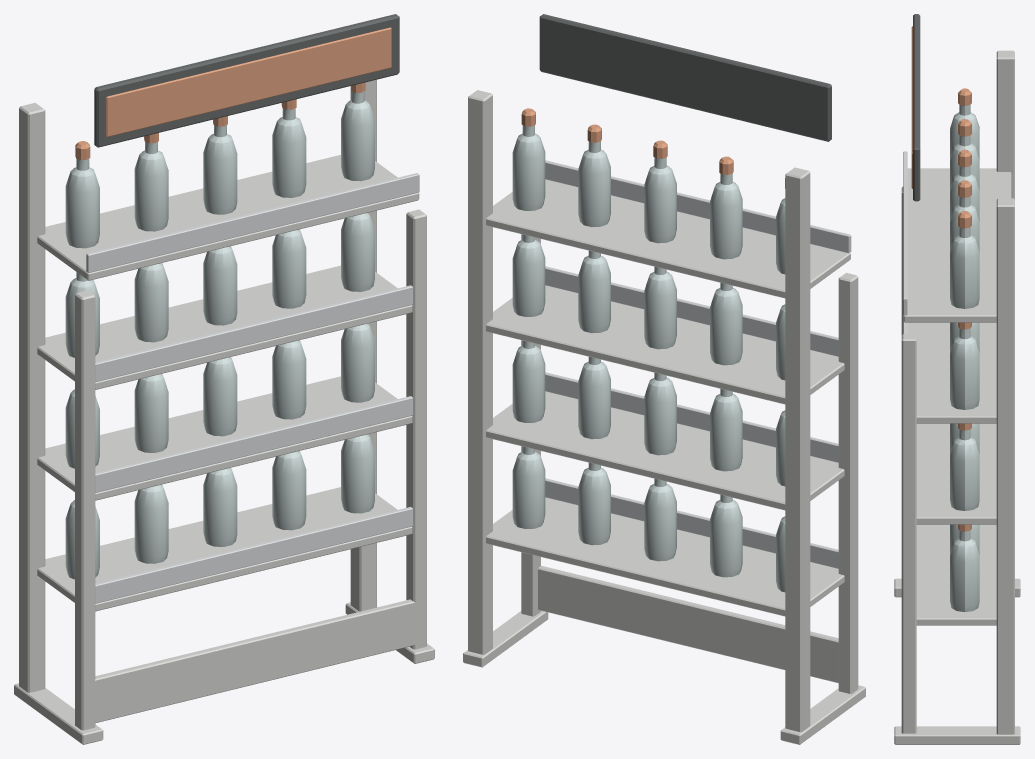
Rendered from garden-centre-and-florist-fertiliser-bottle-rack-31e0dca2__17753.glb.
The picture shows the model from 3 angles, left to right: view 1: azimuth 30°, elevation 25°; view 2: azimuth 150°, elevation 25°; view 3: azimuth 270°, elevation 25°; orthographic projection. The views are drawn at different scales.
Visible parts, largest first — view 1: fertiliser-bottle-rack; view 2: fertiliser-bottle-rack; view 3: fertiliser-bottle-rack.
Boxes of the visible parts, bbox=[...] form: fertiliser-bottle-rack: bbox=[14, 14, 434, 744]; fertiliser-bottle-rack: bbox=[463, 14, 865, 744]; fertiliser-bottle-rack: bbox=[894, 14, 1020, 744].
Bounding box in the file's own units: 0.9999 × 1.74 × 0.34.
